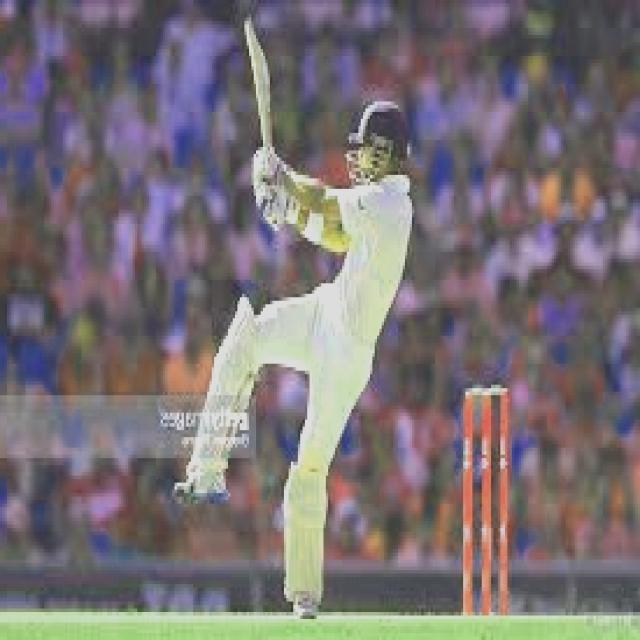toe: (234, 10, 266, 50)
